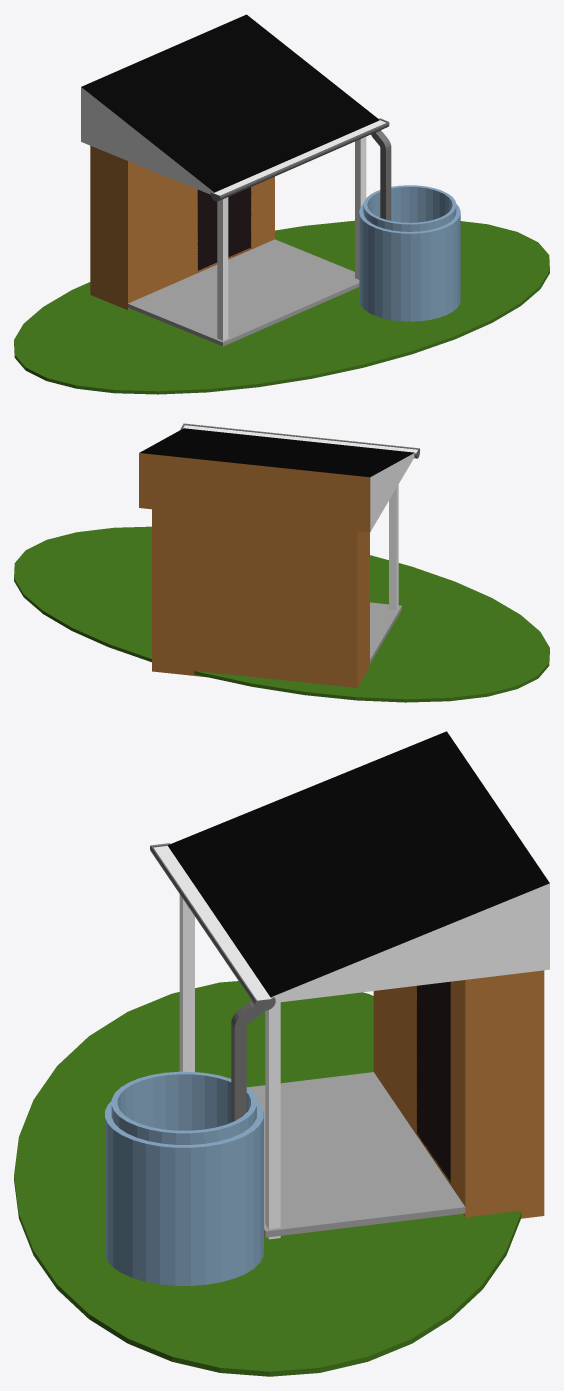
The model's file is BSN_Water_Main.gltf.
3 renders of one model, top to bottom at view 1: azimuth 30°, elevation 25°; view 2: azimuth 150°, elevation 25°; view 3: azimuth 270°, elevation 25°, orthographic. The views are drawn at different scales.
Parts seen in each view (by area): view 1: Grass, Roof, HouseWall, Barrel, Concrete, Pillar2, Pillar1, GutterPipe, WaterGutter, Gutter; view 2: HouseWall, Grass, Roof, Pillar2, Concrete, WaterGutter, Gutter; view 3: Grass, Roof, HouseWall, Barrel, Concrete, Pillar1, Pillar2, WaterGutter, GutterPipe, Gutter.
Part boxes in pixels (x1,y1,x2,y2): Grass: (14,220,549,394); Roof: (81,14,379,194); HouseWall: (90,146,274,309); Barrel: (359,185,460,321); Concrete: (128,239,359,346); Pillar2: (217,197,228,340); Pillar1: (355,137,366,279); GutterPipe: (371,130,391,220); WaterGutter: (213,120,386,195); Gutter: (210,118,389,201); HouseWall: (152,470,369,687); Grass: (14,526,549,702); Roof: (139,428,414,532); Pillar2: (389,485,398,609); Concrete: (370,602,401,663); WaterGutter: (183,425,417,453); Gutter: (180,423,419,458); Grass: (14,981,521,1376); Roof: (168,731,549,1002); HouseWall: (373,970,544,1218); Barrel: (105,1071,263,1285); Concrete: (248,1072,465,1237); Pillar1: (265,1002,280,1239); Pillar2: (179,894,194,1071); WaterGutter: (154,846,271,1000); GutterPipe: (231,1001,264,1122); Gutter: (150,843,275,1010).
Size of the model in its own units: 28.11 by 11.38 by 16.21.
